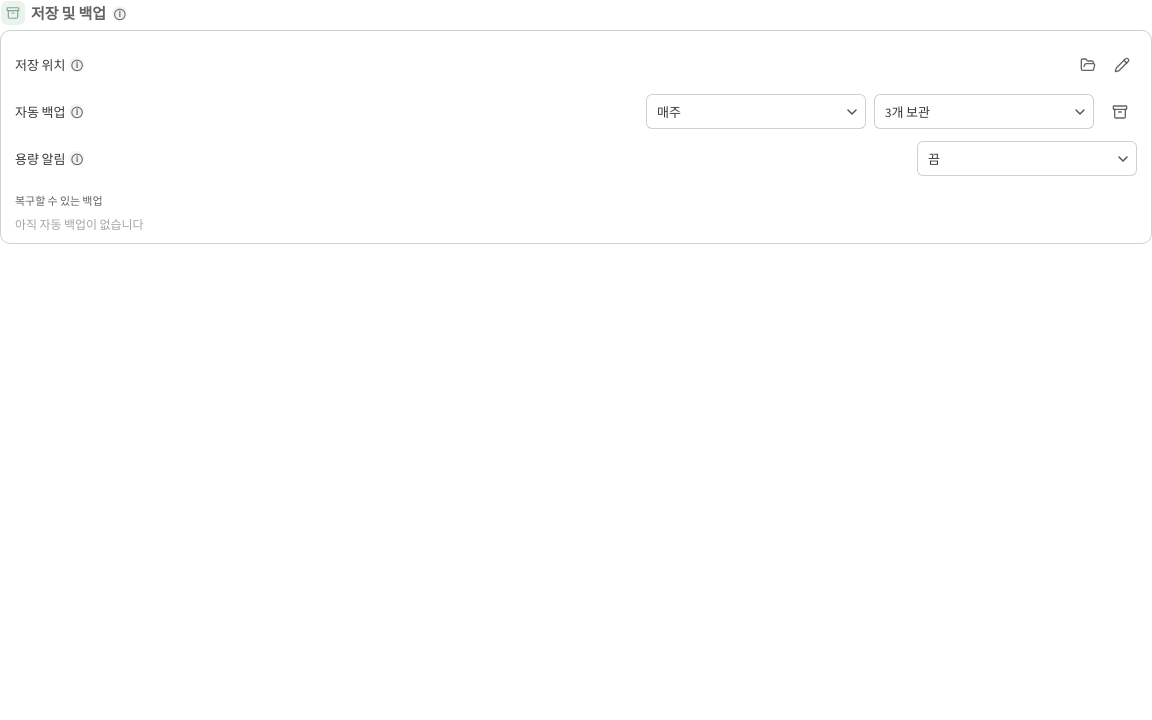
Test: StorageBackupCard › 저장 위치 › 위치 변경 -> 폴더 선택 -> 점검 성공 시 확인창이 뜬다
The width and height of the screenshot is (1152, 720).
Click the button with test id "settings-data-location-change": (1122, 64) left=1107, top=50, right=1137, bottom=80
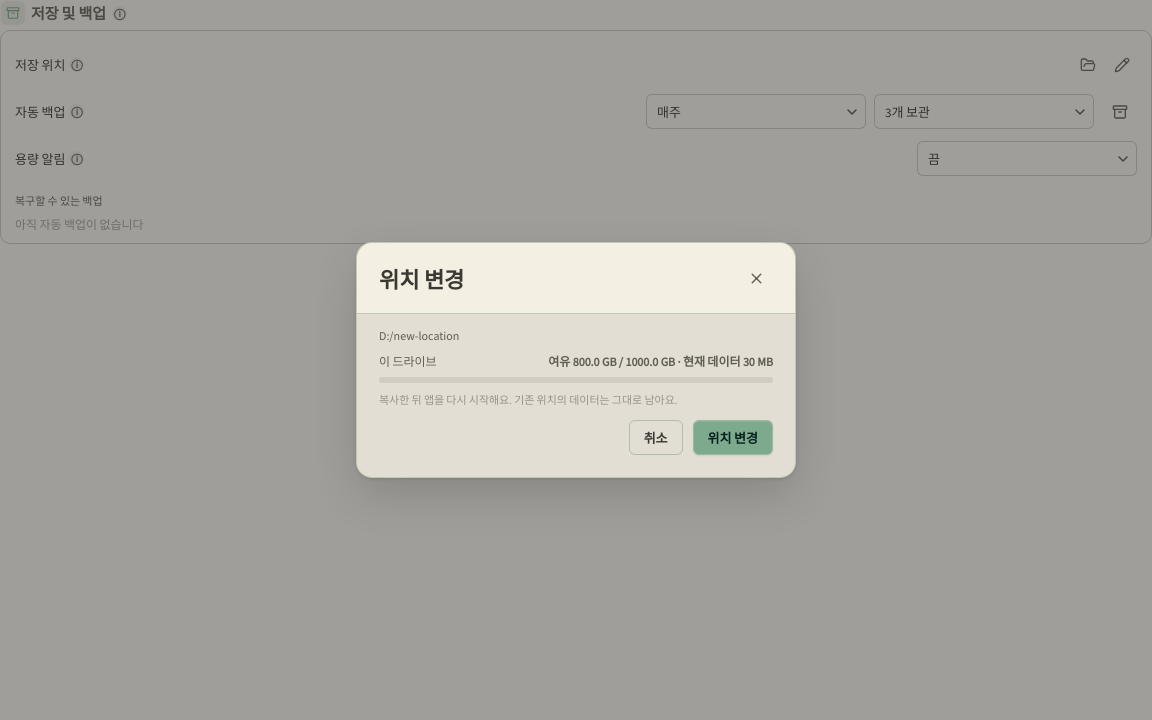
Expected: the element with test id "settings-data-location-space-bar" is shown, left=379, top=354, right=773, bottom=383
